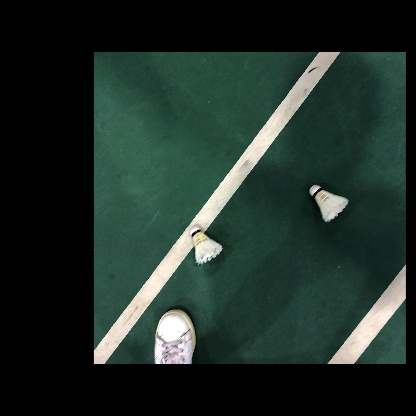ball_single: (309, 184, 349, 223), (190, 225, 222, 265)
